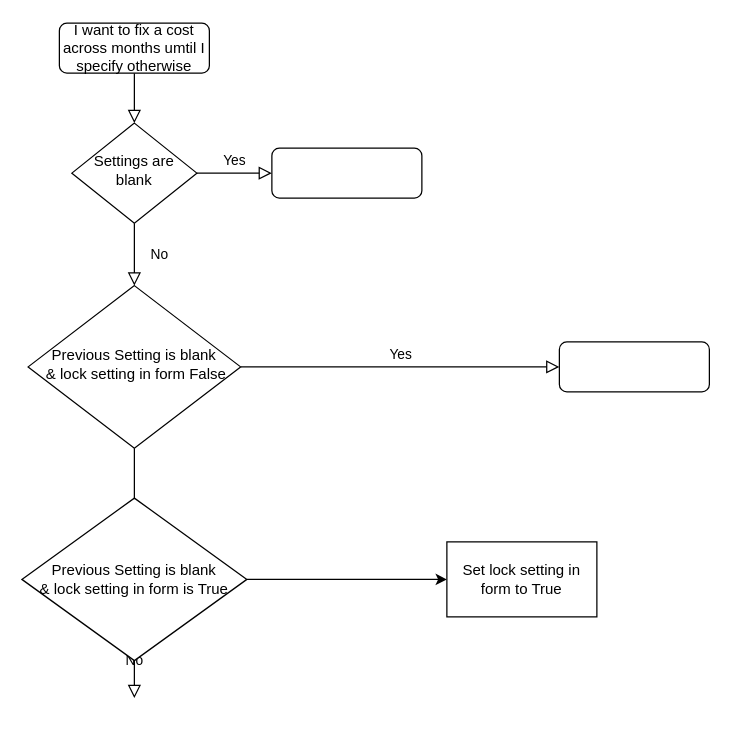
Some shapes in this 731 by 733 pixel diagram are drawn without their labels. Here are the shapes that lost their labels. From the top down, the box of each, then its label:
(271, 147, 422, 198): set lock setting to False
(558, 341, 709, 392): Do nothing
